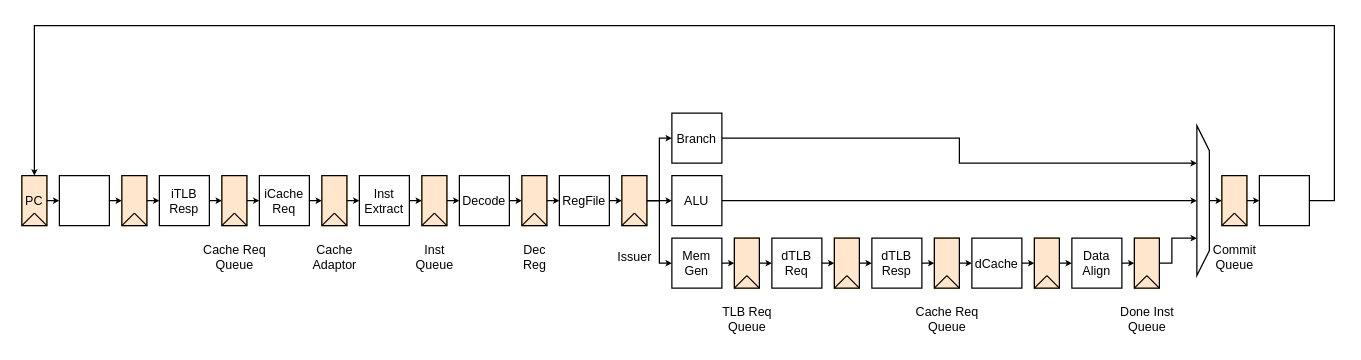
Some shapes in this 1361 by 360 pixel diagram are drawn without their labels. Here are the shapes that lost their labels. From the top down, the centre of each, then its label:
At point (83, 200): "iTLB Req".
At point (1283, 200): "Commit".
